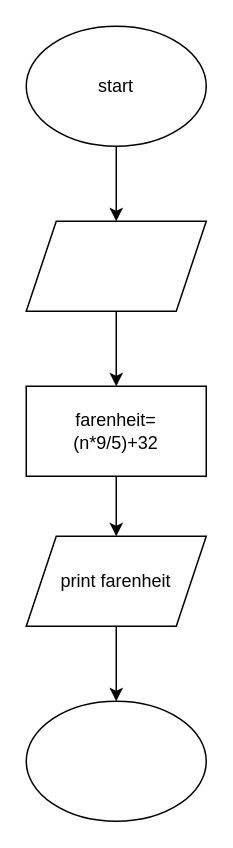
The diagram is 233 pixels wide and 848 high, and some of its shapes have lost their labels. The shapes that lost their labels are listed below. From the top down, each one's centre as x and y in pixels, then its label:
the point at 115,265: declare n, farenheit
the point at 115,760: stop
